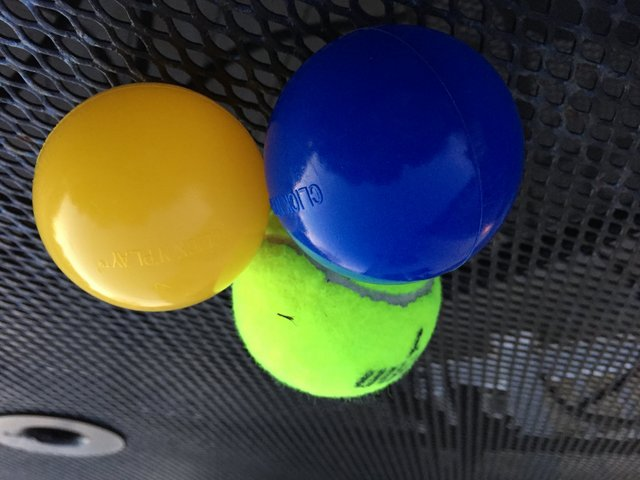Ball: (31, 83, 270, 304)
